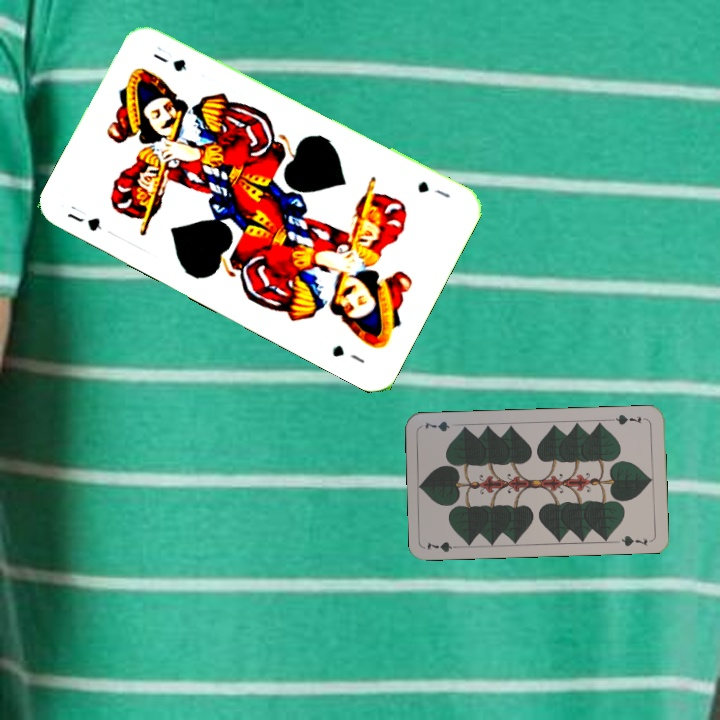G7: (423, 537, 464, 555), (608, 410, 649, 427)
GU: (63, 201, 104, 234), (413, 176, 453, 201)
